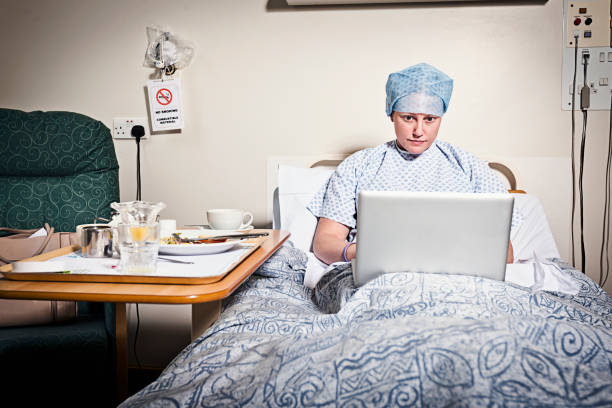computer: (351, 193, 516, 295)
hospital_bed: (113, 158, 612, 408)
overbed_table: (1, 226, 292, 365)
patient: (313, 61, 516, 287)
sofa: (1, 110, 120, 391)
